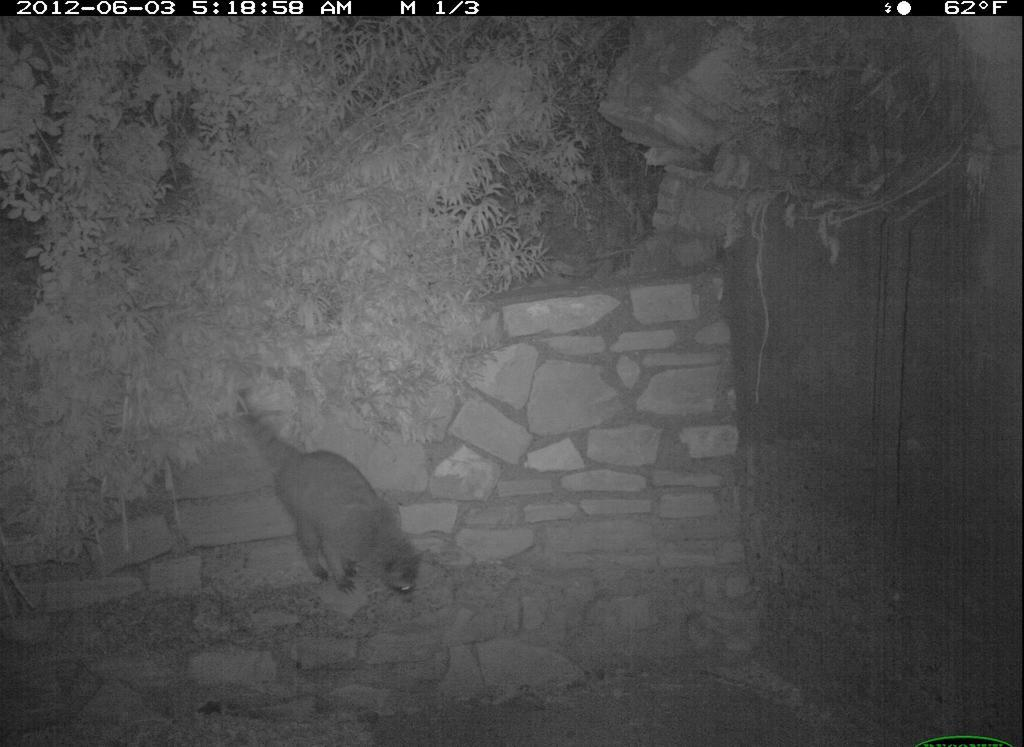raccoon: (226, 396, 441, 605)
